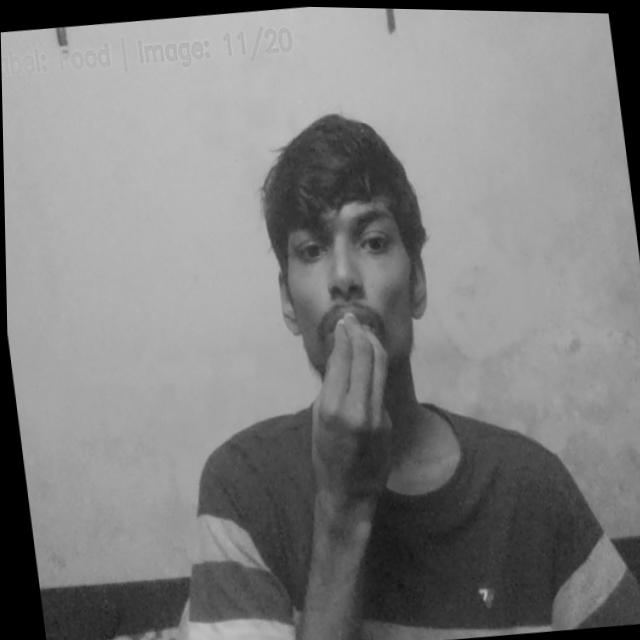Food: (294, 304, 402, 487)
